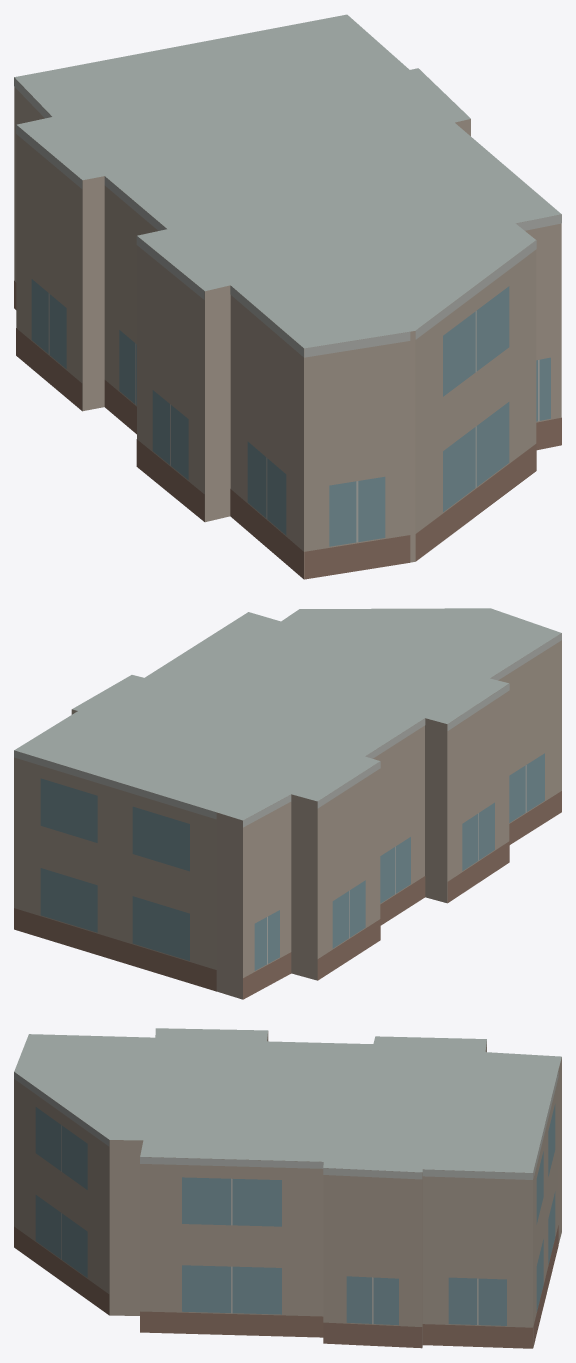
File: survey-upis-32530051.glb
3 renders of one model, top to bottom at view 1: azimuth 30°, elevation 25°; view 2: azimuth 150°, elevation 25°; view 3: azimuth 270°, elevation 25°, orthographic. The views are drawn at different scales.
Visible parts, largest first — view 1: survey-upis-32530051.tmp; view 2: survey-upis-32530051.tmp; view 3: survey-upis-32530051.tmp.
Part boxes in pixels (box(x1,y1,x2,y2)): survey-upis-32530051.tmp: box(14, 14, 561, 579); survey-upis-32530051.tmp: box(14, 608, 561, 999); survey-upis-32530051.tmp: box(14, 1028, 561, 1348).
Bounding box in the file's own units: 10.8 × 6.1 × 17.25.
